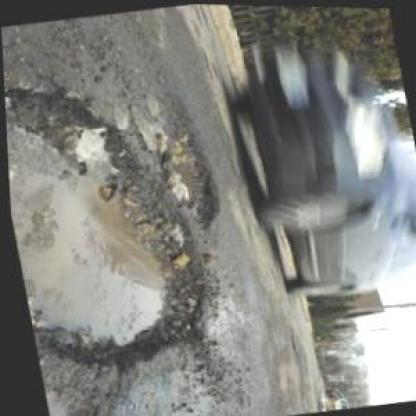pothole: (3, 58, 227, 386), (144, 90, 225, 234)
